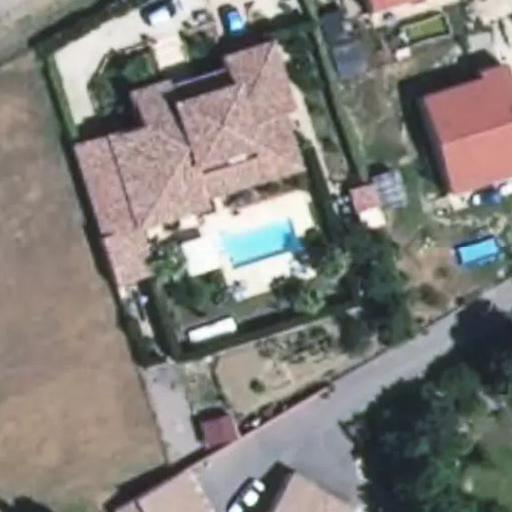pool: (220, 215, 304, 271)
